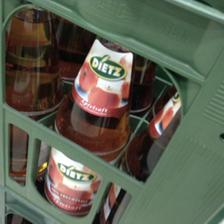Saft: (45, 30, 131, 216), (4, 5, 64, 186)
